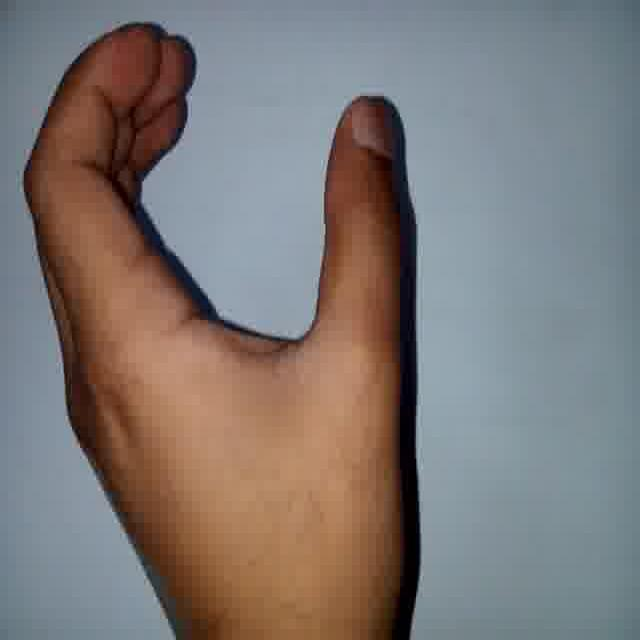Alphabet-C: (24, 23, 420, 639)
